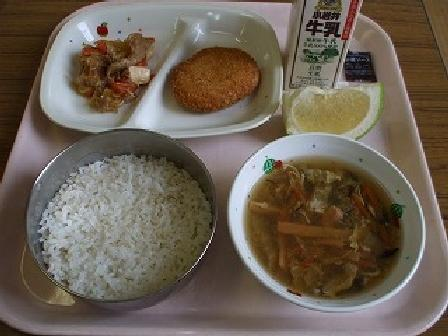Milk: (280, 2, 366, 88)
Rice: (25, 136, 212, 304)
Soups: (238, 138, 417, 293)
cooked food meat with vegetables: (68, 27, 155, 106)
cutlet: (162, 36, 264, 122)
lime: (277, 76, 387, 143)
